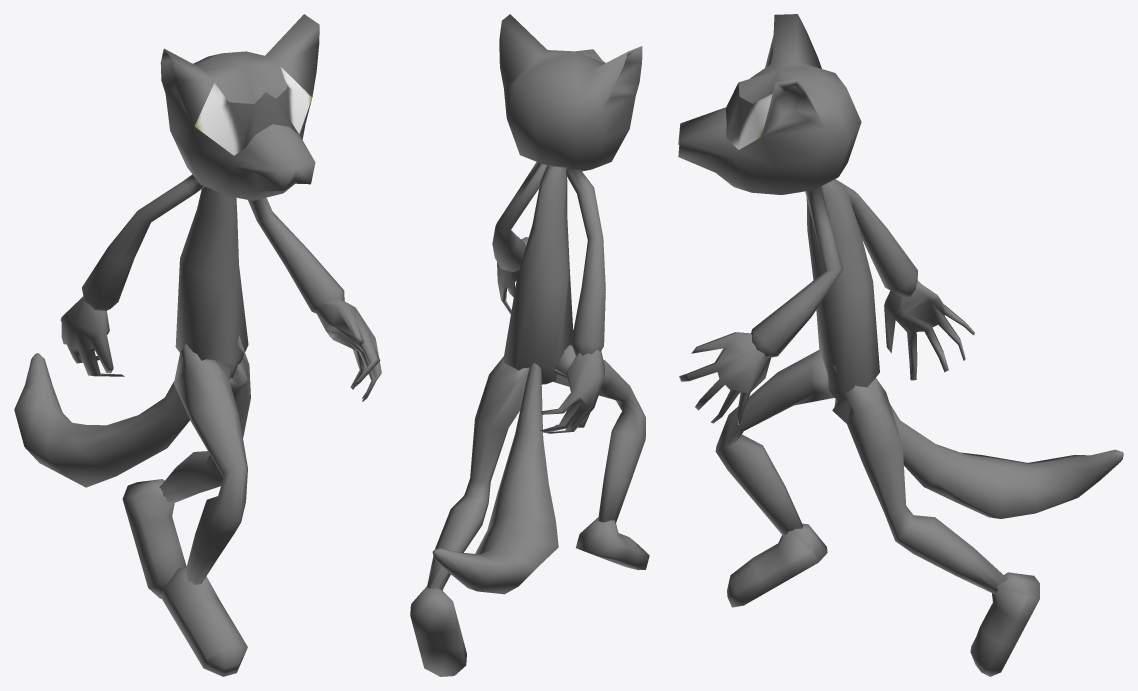
File: werewolfrun1.obj
The picture shows the model from 3 angles, left to right: view 1: azimuth 30°, elevation 25°; view 2: azimuth 150°, elevation 25°; view 3: azimuth 270°, elevation 25°; orthographic projection. The views are drawn at different scales.
Visible parts, largest first — view 1: Sphere001, Object001; view 2: Sphere001; view 3: Sphere001, Object001.
Part boxes in pixels (left/top/right/bottom): Sphere001: left=14, top=14, right=381, bottom=676; Object001: left=194, top=67, right=312, bottom=155; Sphere001: left=410, top=14, right=649, bottom=676; Sphere001: left=678, top=14, right=1123, bottom=676; Object001: left=726, top=83, right=772, bottom=149.
Size of the model in its own units: 53.98 by 161 by 106.
